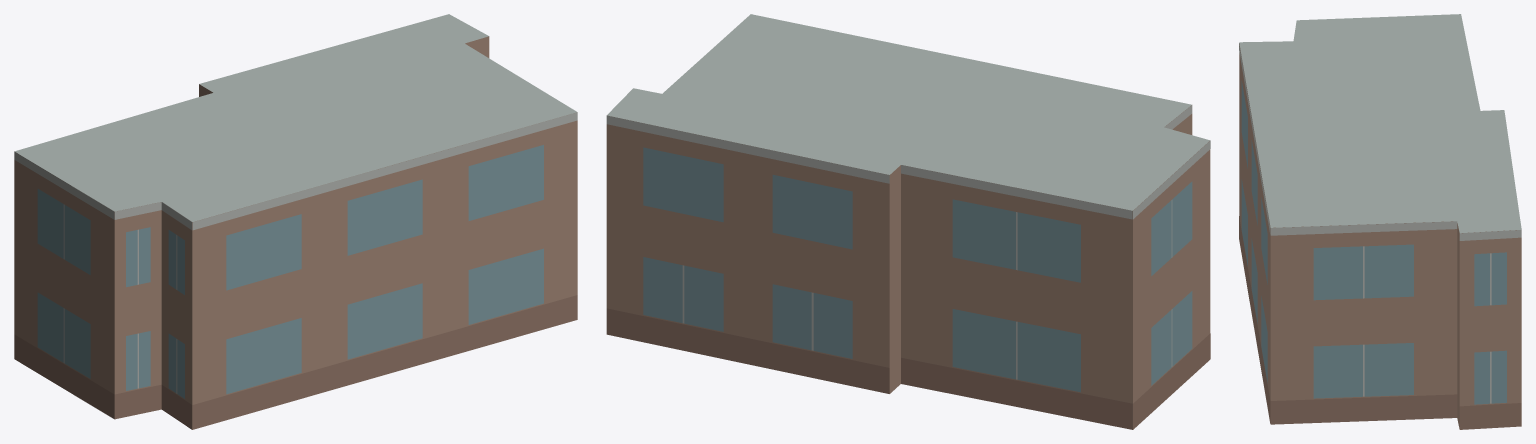
Rendered from survey-upis-32804744.glb.
3 views of the same model, side by side, from view 1: azimuth 30°, elevation 25°; view 2: azimuth 150°, elevation 25°; view 3: azimuth 270°, elevation 25° (orthographic). The views are drawn at different scales.
Visible parts, largest first — view 1: survey-upis-32804744.tmp; view 2: survey-upis-32804744.tmp; view 3: survey-upis-32804744.tmp.
Boxes of the visible parts, bbox=[...] form: survey-upis-32804744.tmp: bbox=[14, 14, 577, 429]; survey-upis-32804744.tmp: bbox=[606, 14, 1210, 429]; survey-upis-32804744.tmp: bbox=[1239, 14, 1521, 429].
Bounding box in the file's own units: 14.59 × 6.1 × 7.95.
